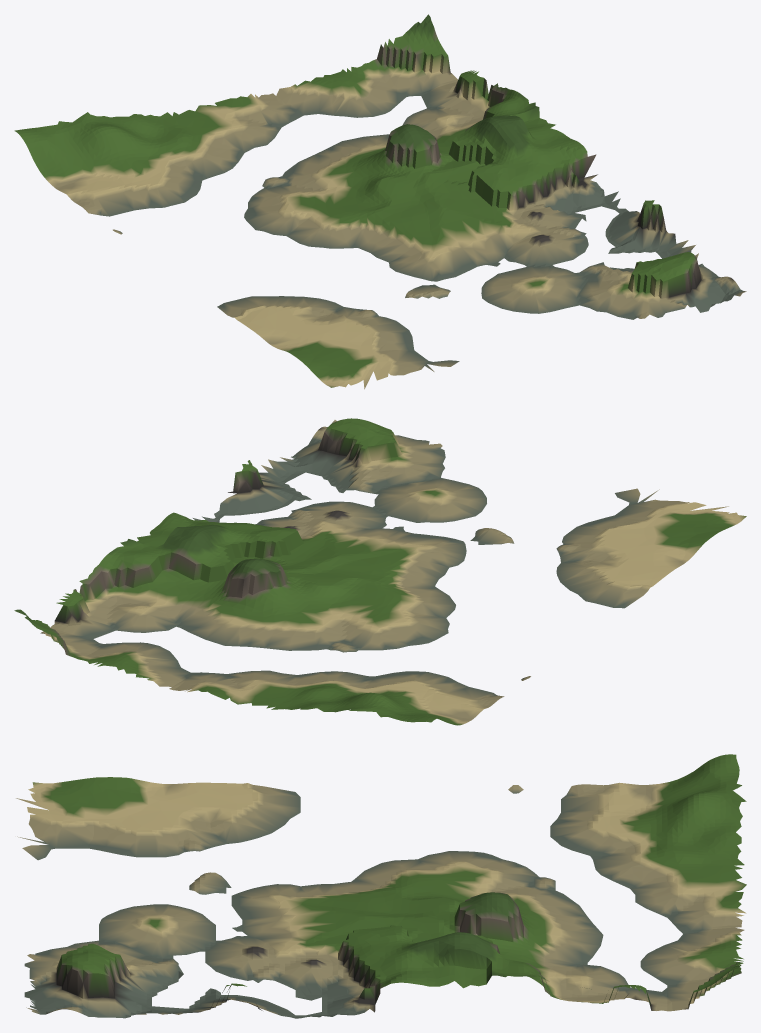
Rendered from coast_tile_x0z1_lod1.glb.
3 views of the same model, one above another, from view 1: azimuth 30°, elevation 25°; view 2: azimuth 150°, elevation 25°; view 3: azimuth 270°, elevation 25° (orthographic). The views are drawn at different scales.
Visible parts, largest first — view 1: geometry_0; view 2: geometry_0; view 3: geometry_0.
Part boxes in pixels (x1,y1,x2,y2): geometry_0: (14, 14, 746, 389); geometry_0: (14, 418, 746, 725); geometry_0: (16, 754, 746, 1018).
Size of the model in its own units: 612 by 69.5 by 828.
